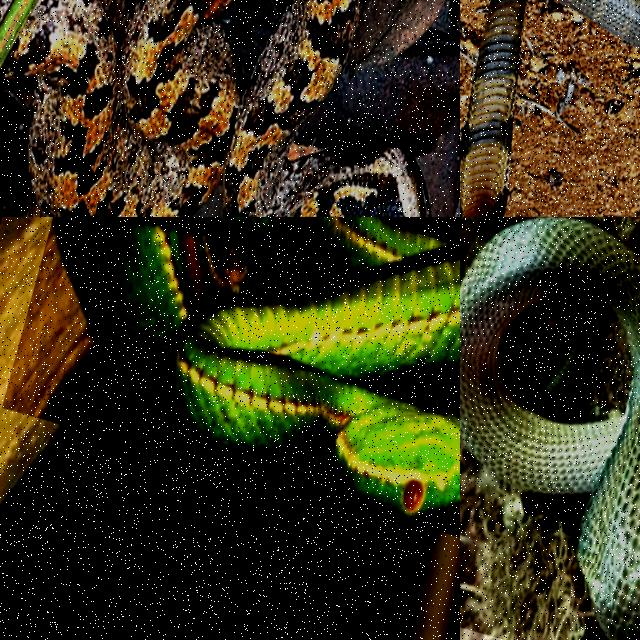Naja siamensis: (460, 217, 639, 639)
Ophiophagus hannah: (460, 0, 525, 216)
Ovophis monticola: (5, 0, 427, 216)
Trimeresurus: (57, 217, 459, 521)
